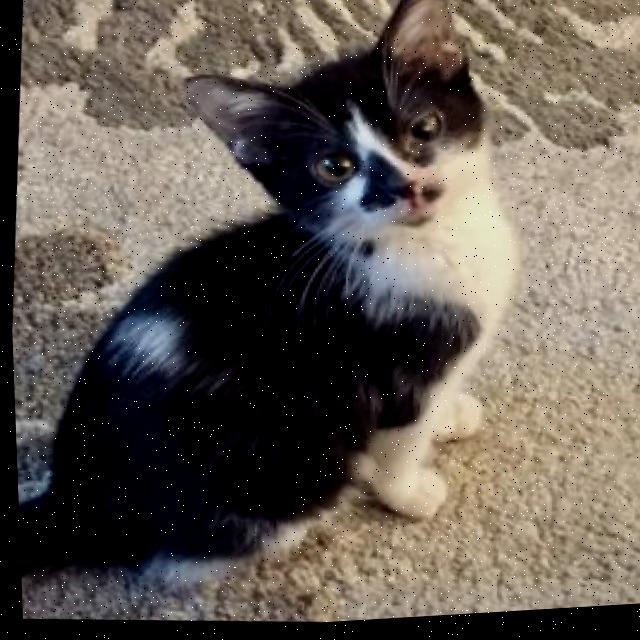Tuxedo: (0, 0, 556, 630)
